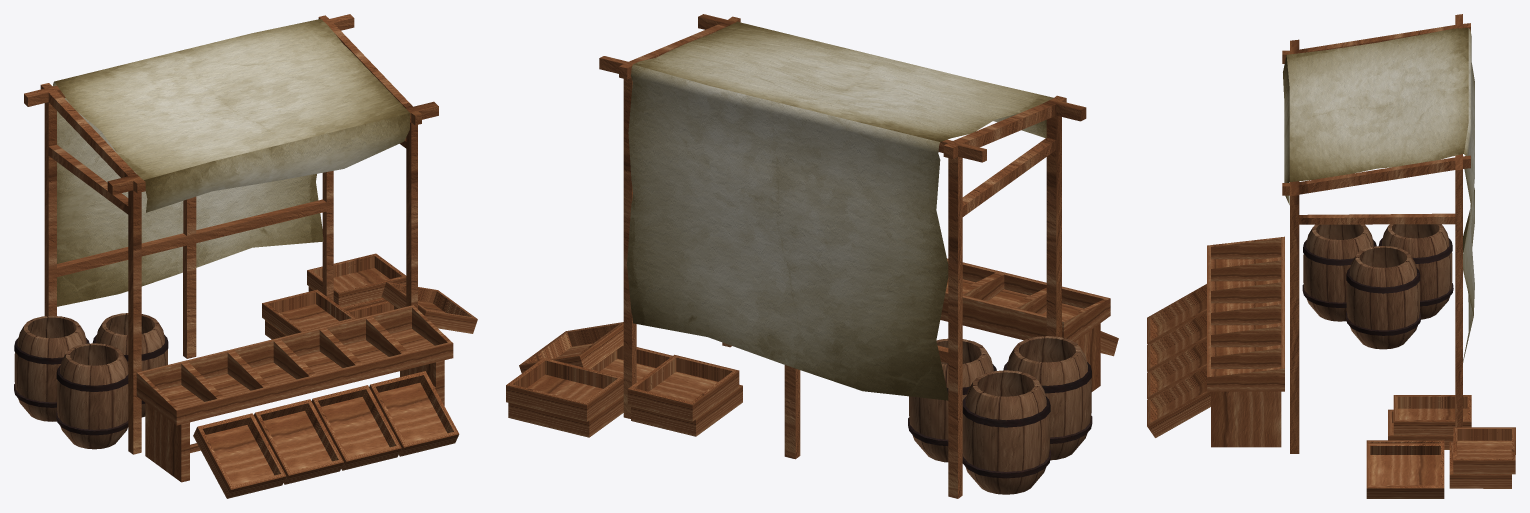
The model's file is TradeTent1.FBX.
3 renders of one model, left to right at view 1: azimuth 30°, elevation 25°; view 2: azimuth 150°, elevation 25°; view 3: azimuth 270°, elevation 25°, orthographic. The views are drawn at different scales.
Parts seen in each view (by area): view 1: Box09; view 2: Box09; view 3: Box09.
Boxes of the visible parts, box(x1,y1,x2,y2) form: Box09: box(14, 14, 477, 498); Box09: box(506, 14, 1118, 498); Box09: box(1147, 14, 1515, 498).
Size of the model in its own units: 124 by 93.12 by 82.59.
4 materials, 4 textured.
